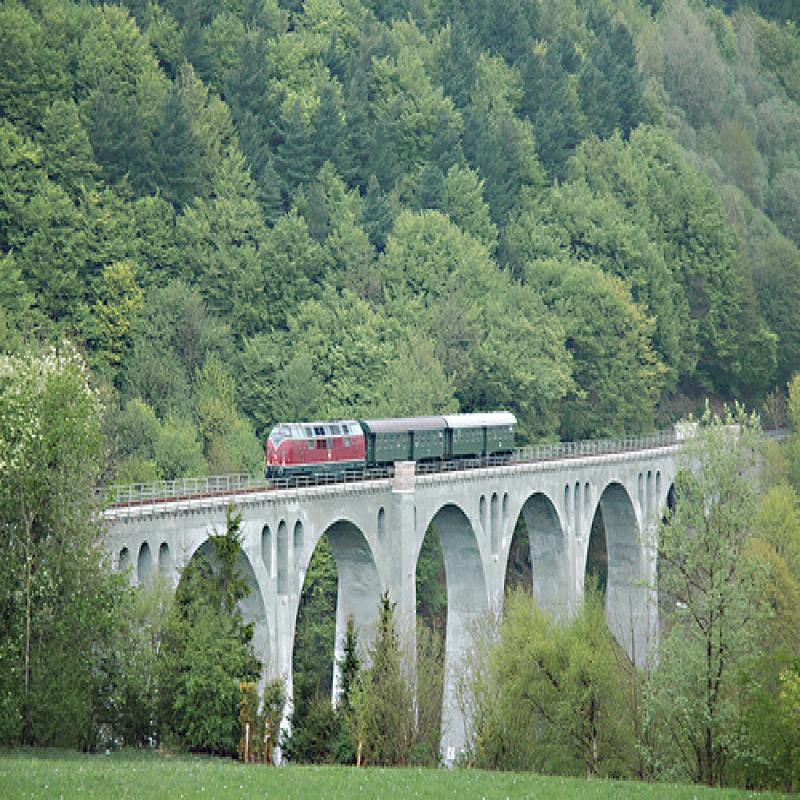train: (260, 407, 518, 484)
